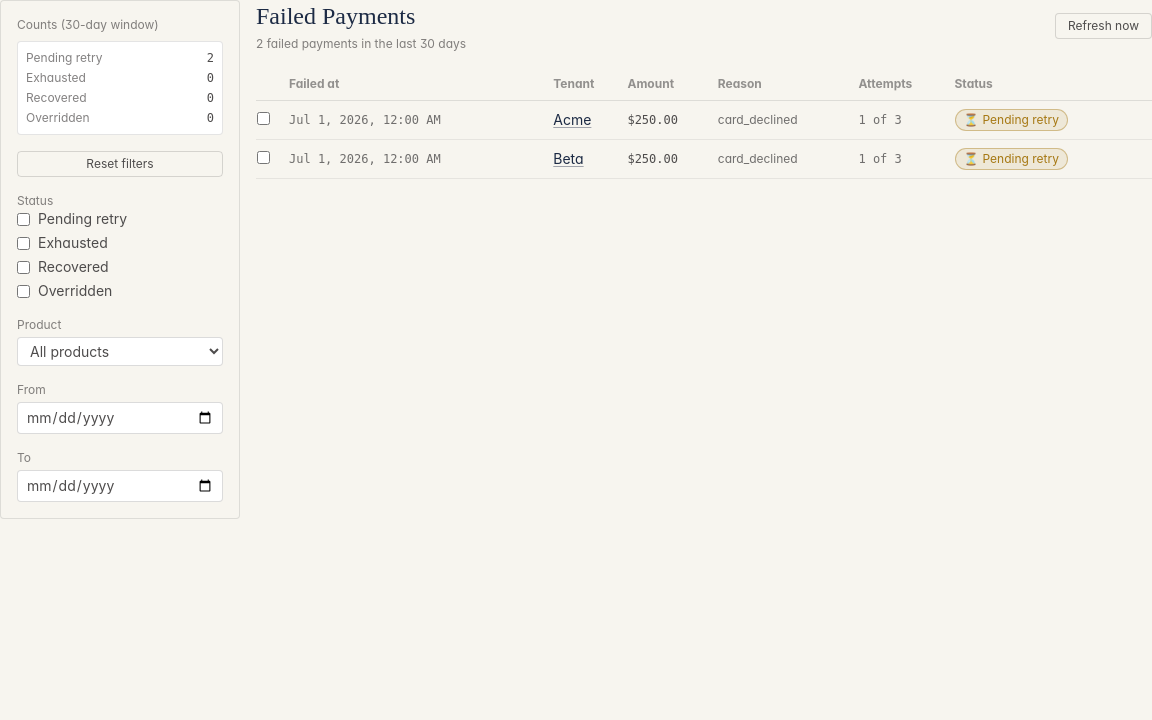
Test: FailedPaymentsBulkEmailBar (HUB-1692) › partial-failure result shows per-id error list
Click the checkbox named "Select Acme".
click(264, 118)  # box [257,112,270,125]
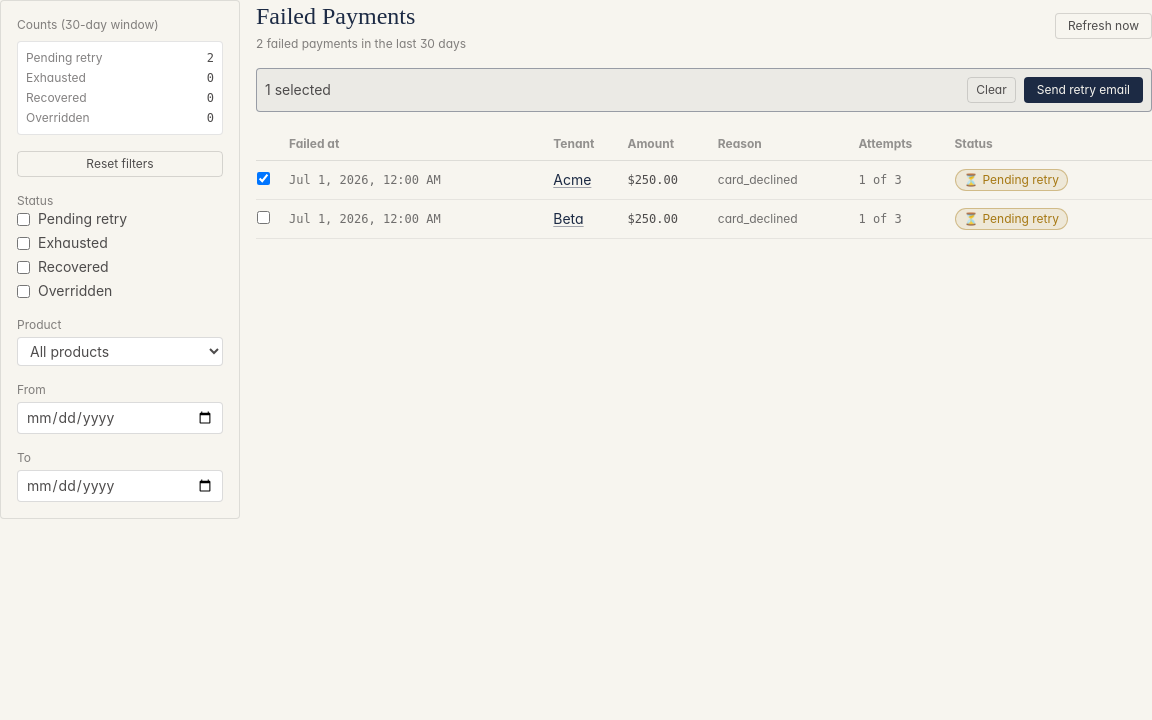
Click the checkbox named "Select Beta".
click(264, 218)  # box [257,211,270,224]
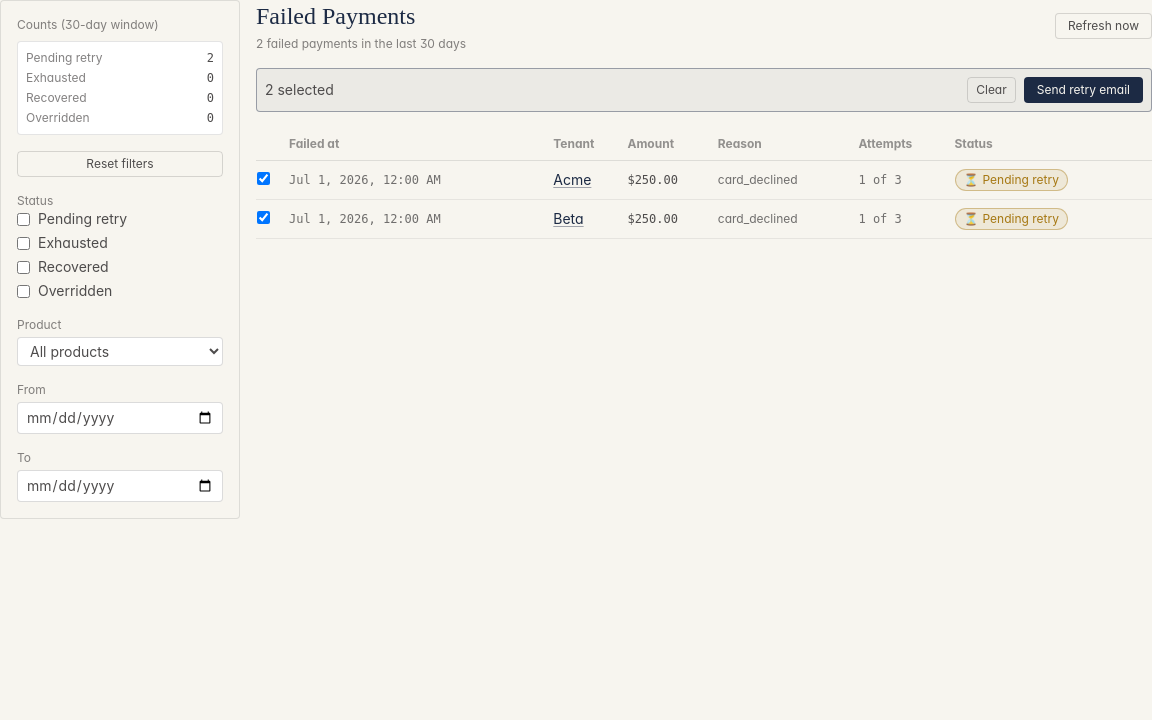
Click the button with test id "failed-payments-bulk-send".
click(1083, 90)  # box [1024,77,1143,103]
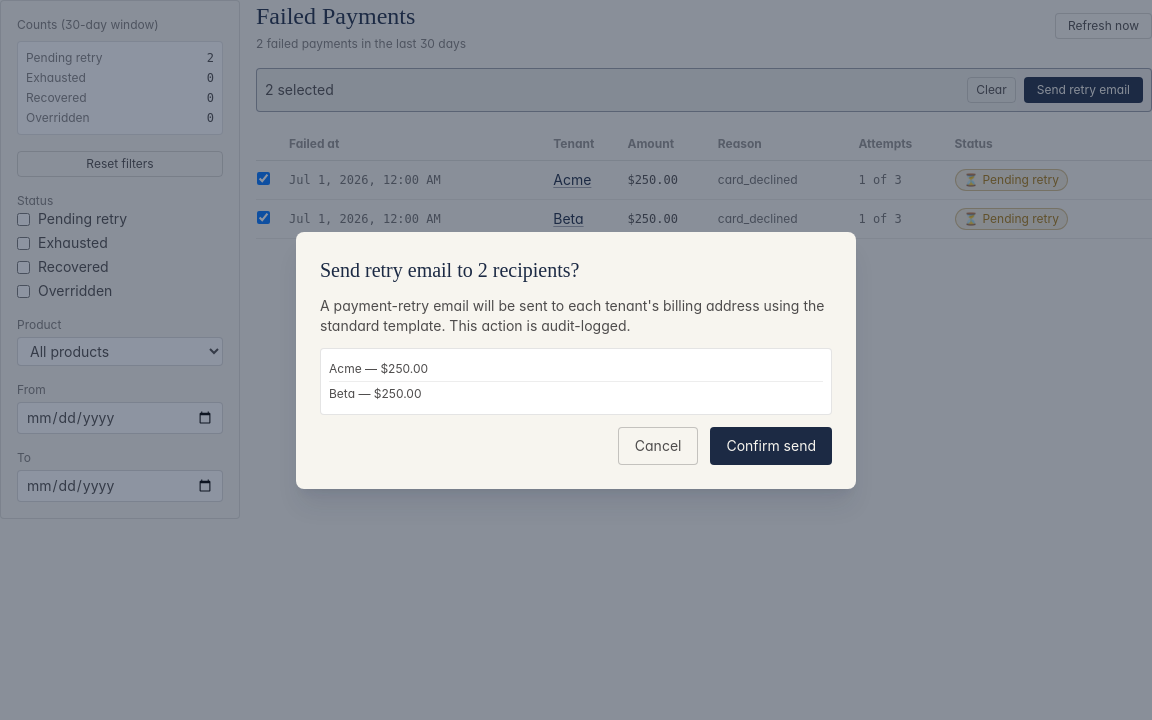
Click the button with test id "failed-payments-bulk-confirm".
click(771, 446)  # box [710,426,832,464]
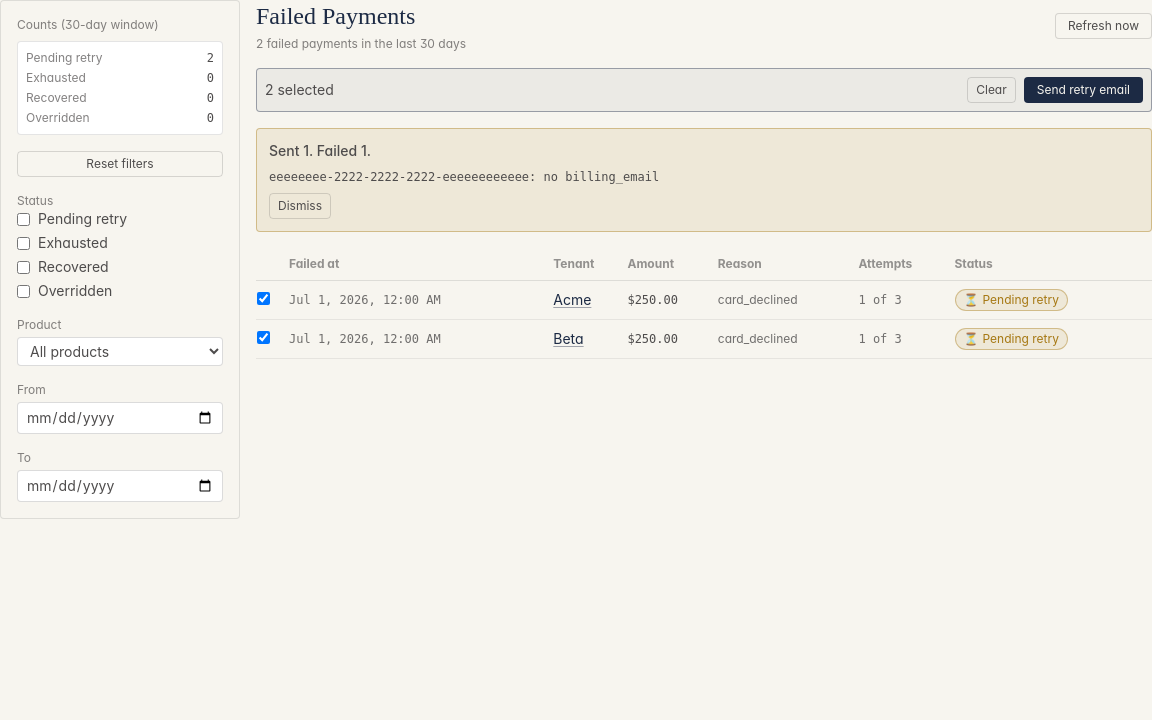
Expected: the list with test id "failed-payments-bulk-result-failures" is shown, [269,170,659,184]
Expected: the list with test id "failed-payments-bulk-result-failures" shows "no billing_email", [544,170,659,184]
